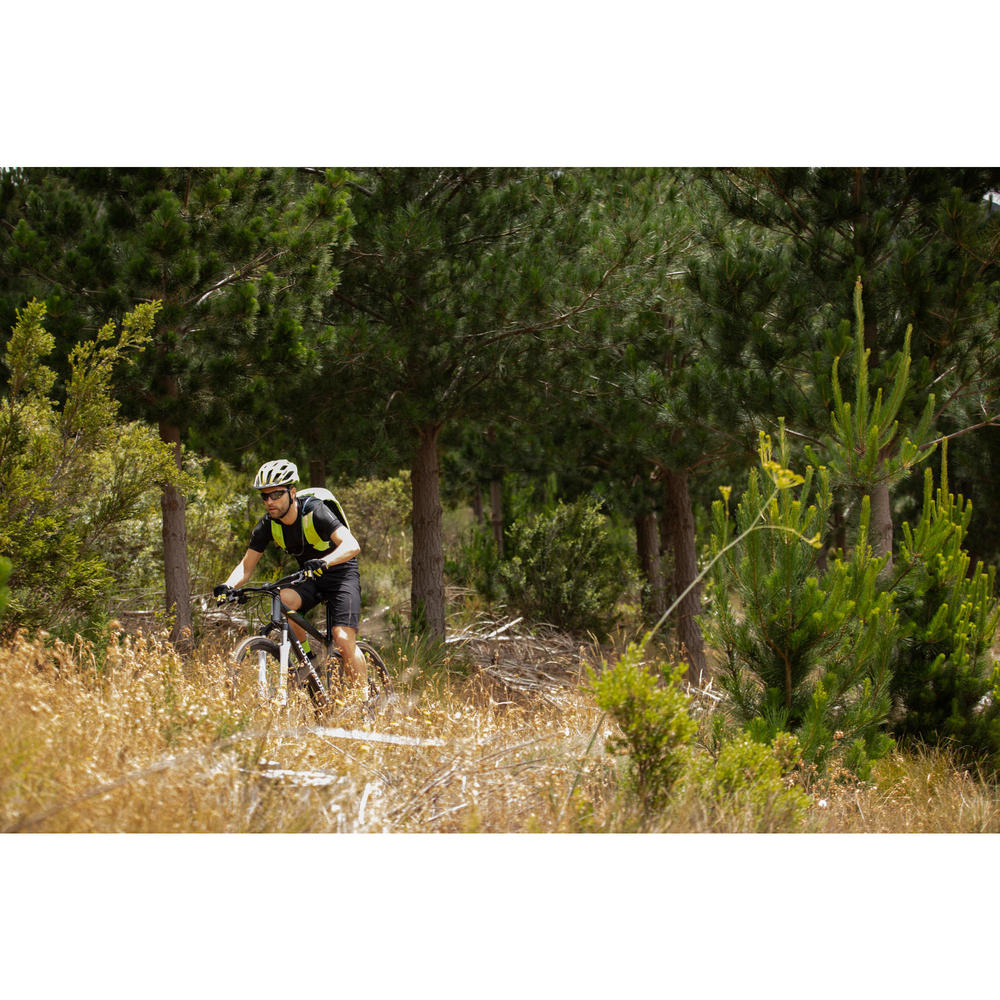MountainBike: (186, 565, 408, 729)
